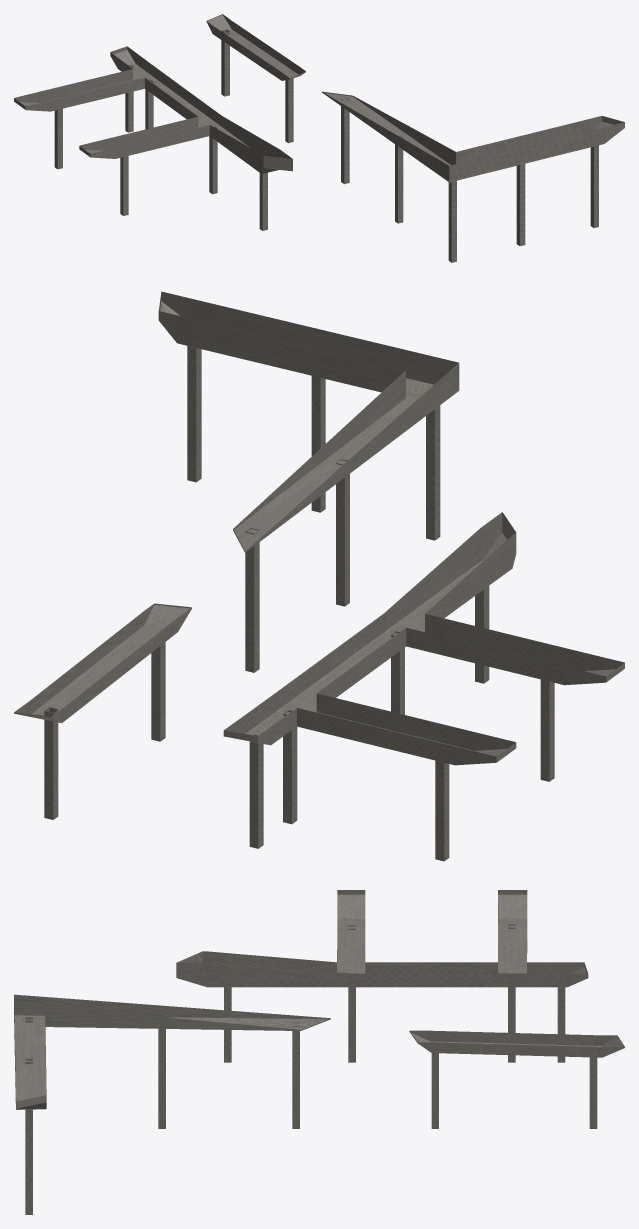
File: lodsupports04_lan.obj
3 views of the same model, one above another, from view 1: azimuth 30°, elevation 25°; view 2: azimuth 150°, elevation 25°; view 3: azimuth 270°, elevation 25° (orthographic). The views are drawn at different scales.
Parts seen in each view (by area): view 1: LODsupports04_LAn; view 2: LODsupports04_LAn; view 3: LODsupports04_LAn.
Part boxes in pixels (x1,y1,x2,y2): LODsupports04_LAn: [14, 14, 624, 262]; LODsupports04_LAn: [14, 291, 624, 861]; LODsupports04_LAn: [14, 890, 624, 1214].
Bounding box in the file's own units: 53.61 × 12.91 × 56.34.
Materials: 1 (1 with a texture image).
